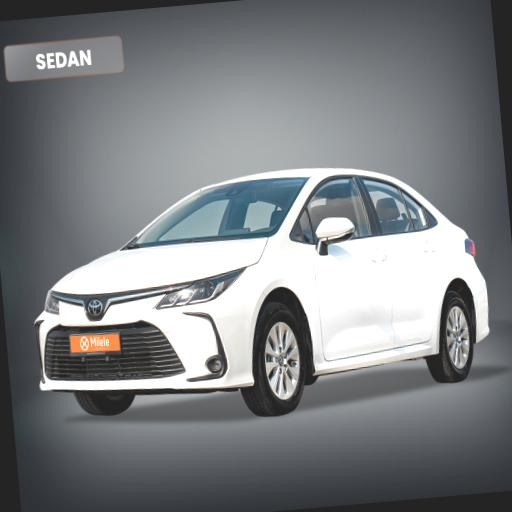Sedan-sDLz: (35, 168, 488, 416)
